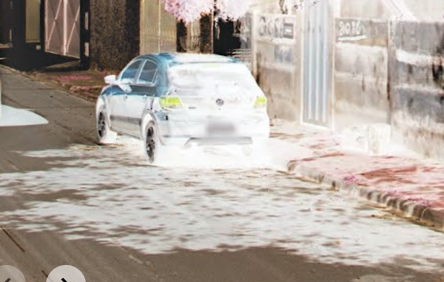car: (94, 49, 271, 165)
